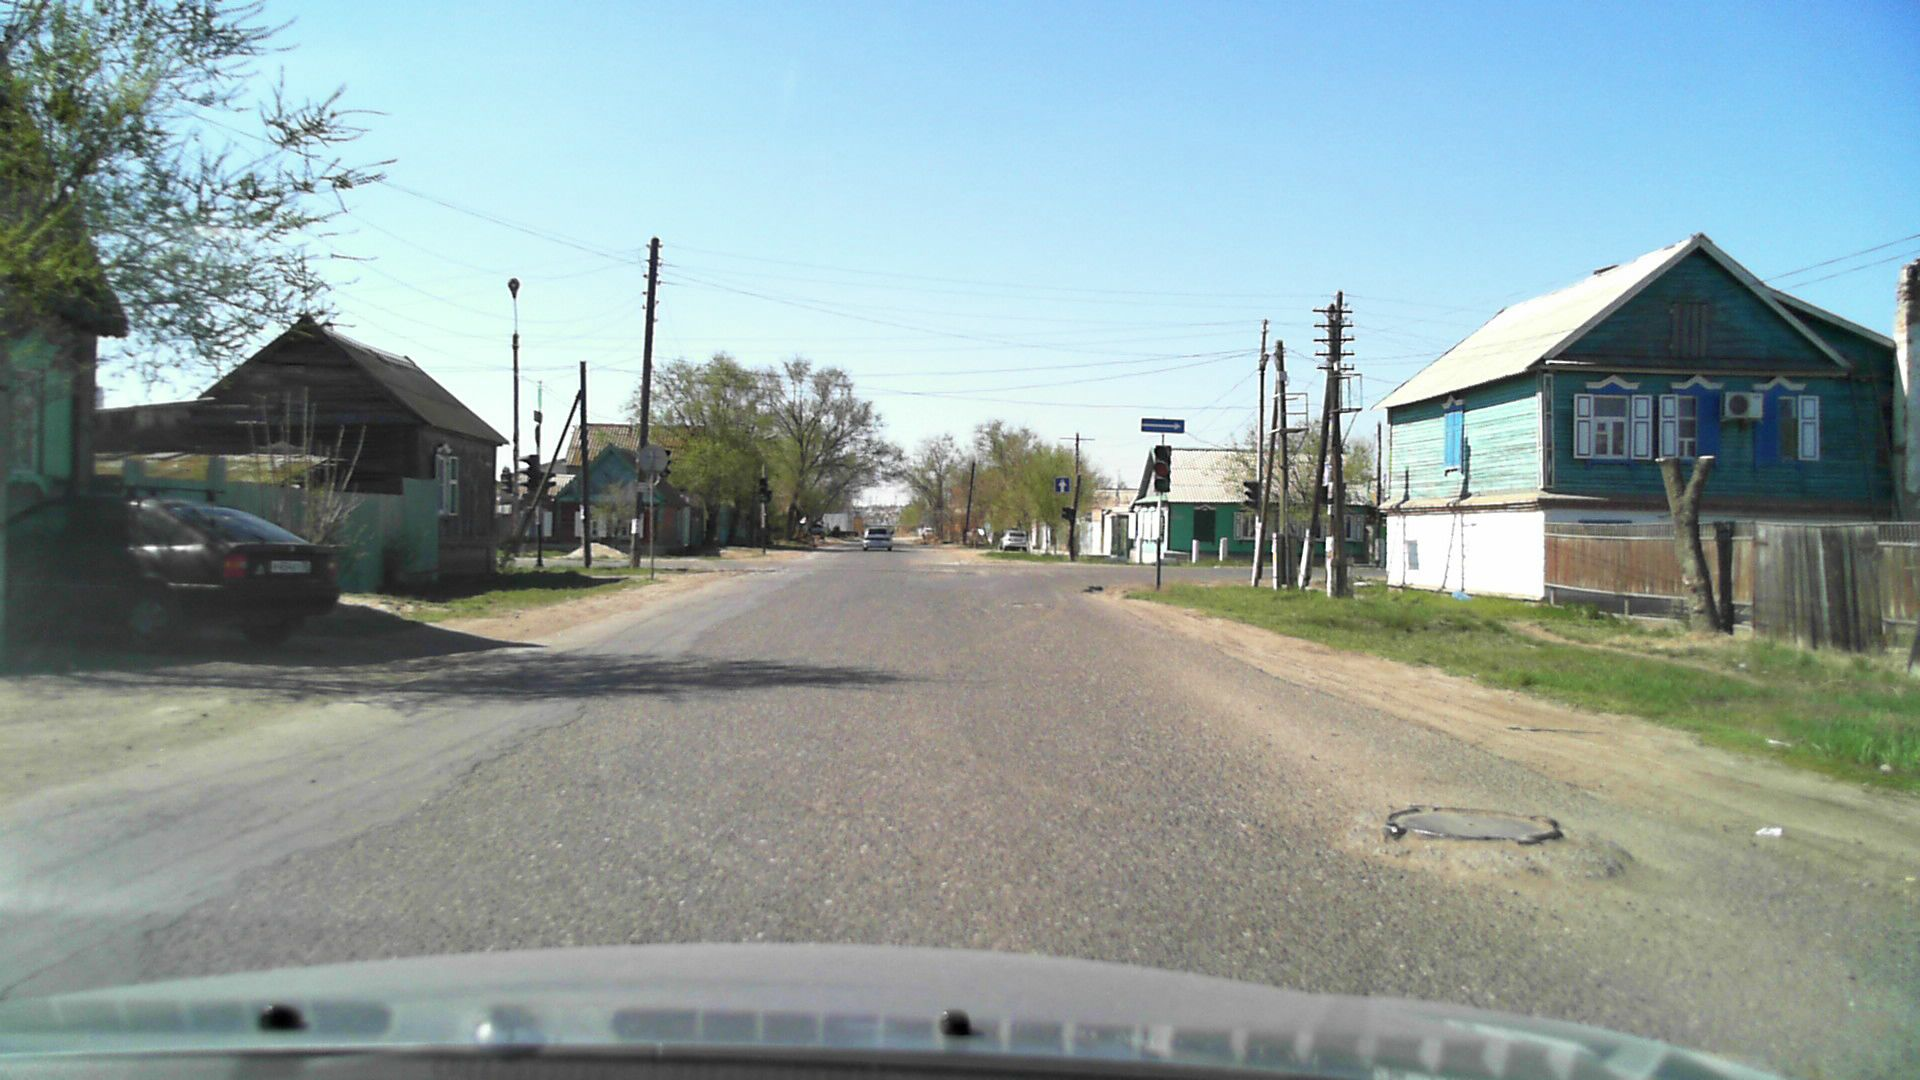One-Way Traffic: (1141, 418, 1184, 433)
